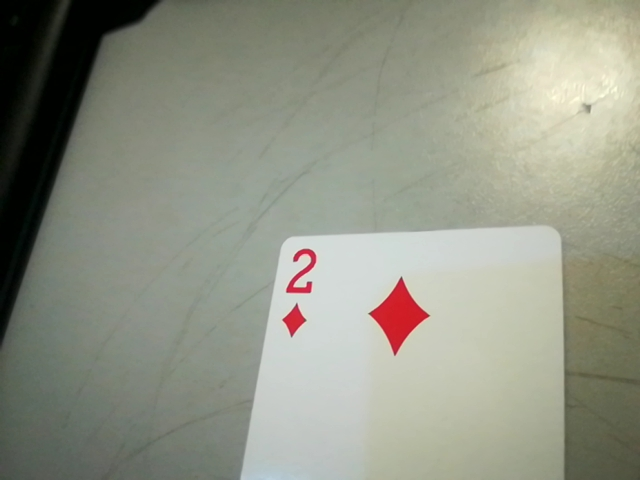fk 2: (270, 240, 331, 345)
